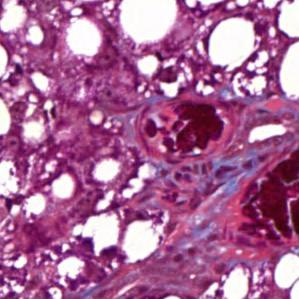steatosis: (204, 15, 258, 77)
